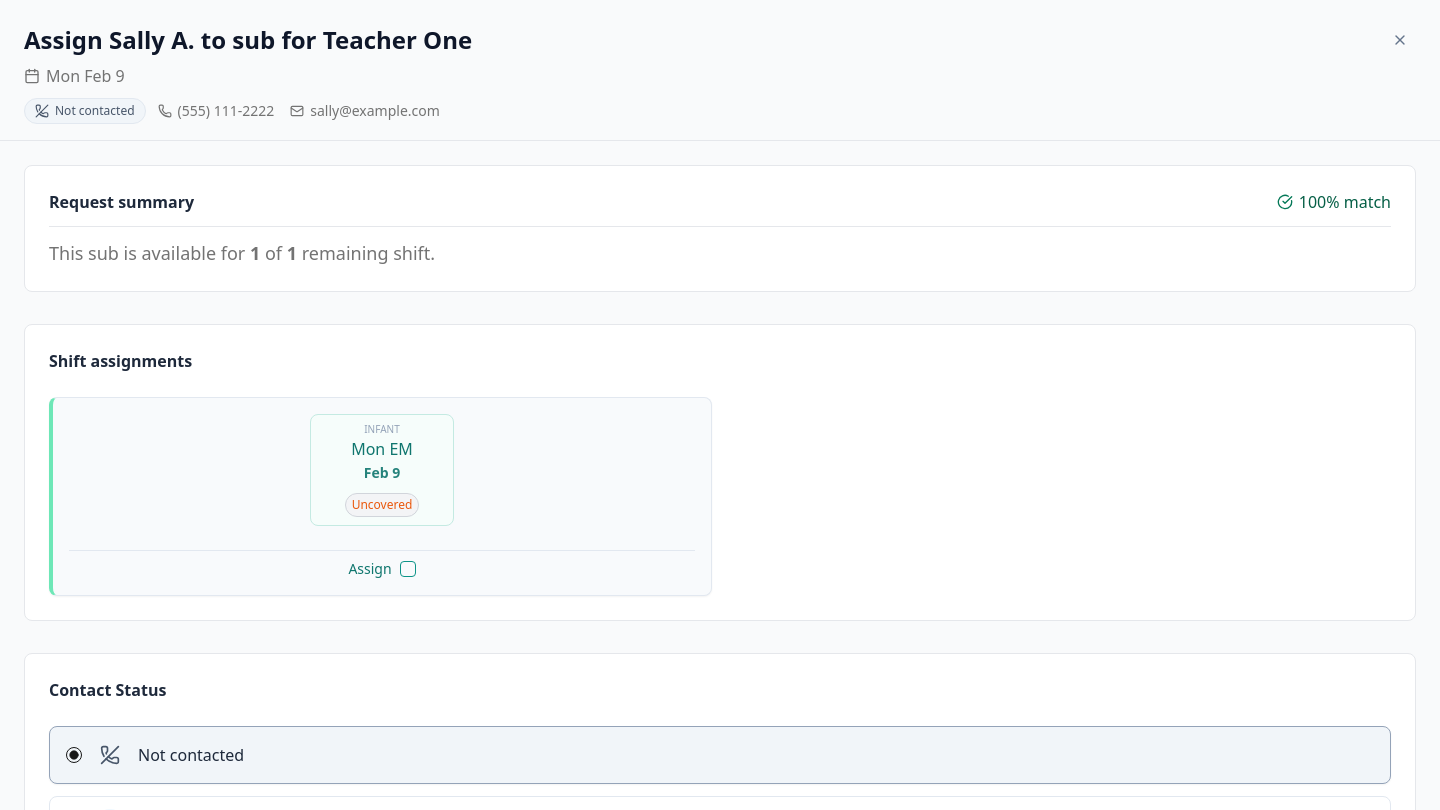
Test: ContactSubPanel › renders contextual warnings when selected shifts require unmet capabilities
Click the checkbox: (408, 569) [400,561,416,577]
(page scrolled)
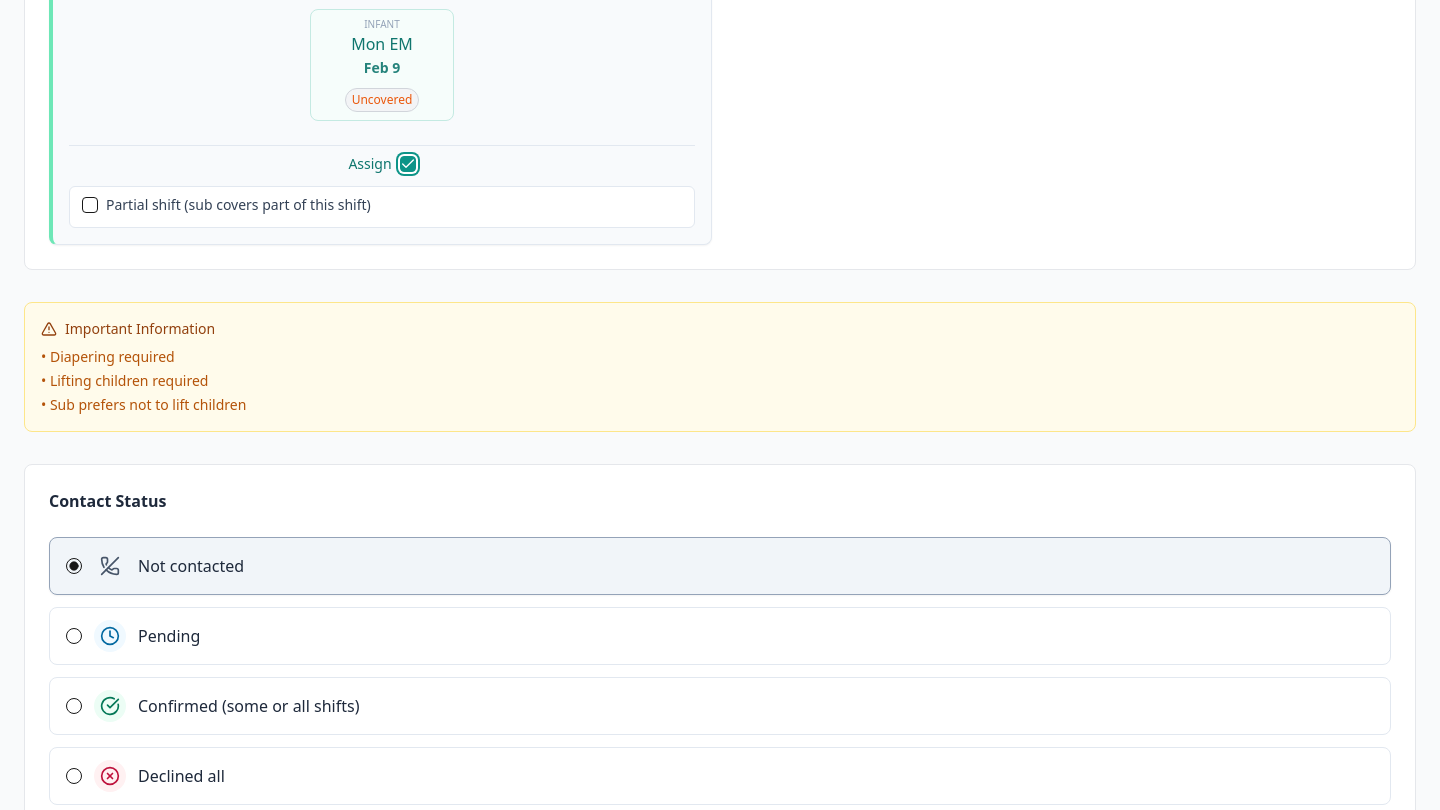
Result: the text "Important Information" is shown at [65,319,215,339]
Result: the text "• Diapering required" is shown at [41,347,175,366]
Result: the text "• Lifting children required" is shown at [41,371,208,390]
